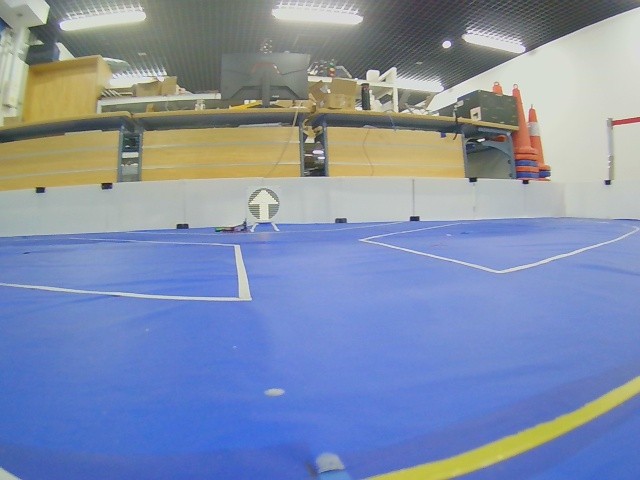straight_yellow: (247, 187, 281, 220)
